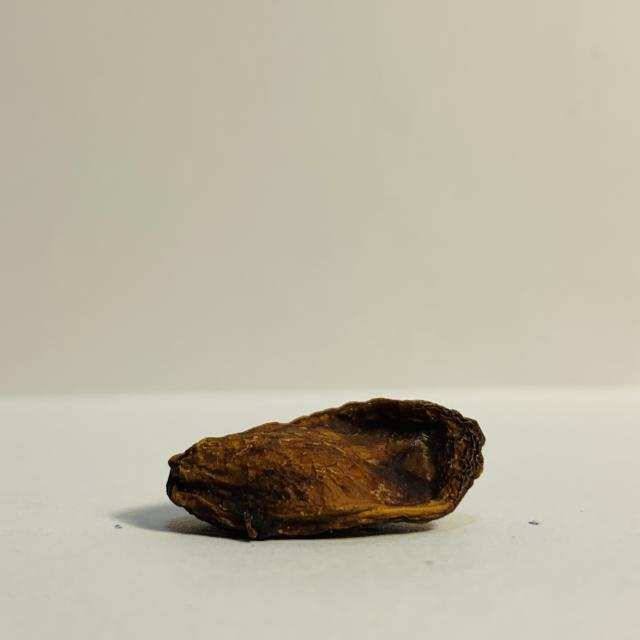Flat_cocoabeans: (63, 375, 555, 564)
